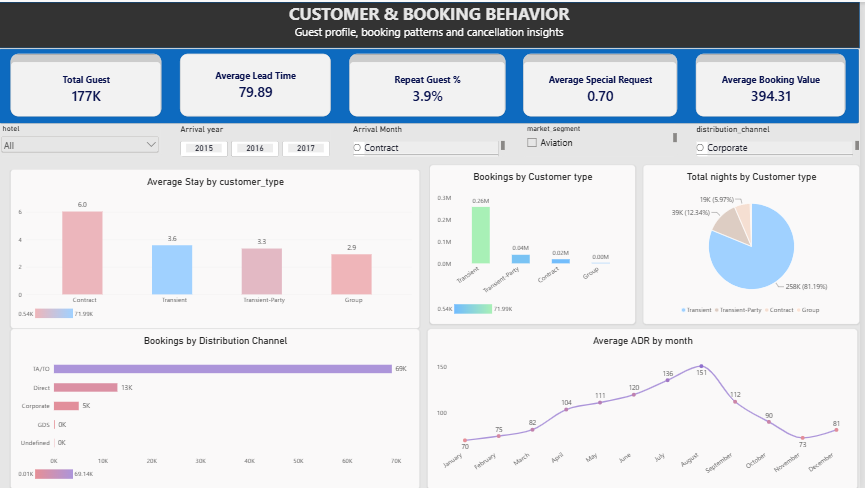

Layout of this report page (visuals, bound fields, positions):
{"tool":"powerbi","page":{"name":"Dashboard 2","canvas":[1920,1080],"ordinal":1},"visuals":[{"type":"shape","box":[9.8,0,1909.6,102.4],"z":0},{"type":"shape","box":[9.8,102.4,1909.6,168.3],"z":1000},{"type":"cardVisual","fields":{"Data":["Measure Table.Average Lead Time"]},"box":[411.5,114.6,334.1,139],"z":2000},{"type":"cardVisual","fields":{"Data":["Measure Table.Total Guest"]},"box":[36.6,114.6,334.1,139],"z":3000},{"type":"cardVisual","fields":{"Data":["Measure Table.Repeat Guest %"]},"box":[786.5,114.6,346.3,139],"z":4000},{"type":"cardVisual","fields":{"Data":["Measure Table.Average Special Request"]},"box":[1173.7,114.6,341.4,139],"z":5000},{"type":"cardVisual","fields":{"Data":["Measure Table.Average Booking Value"]},"box":[1555.9,114.6,331.7,139],"z":6000},{"type":"textbox","box":[9.8,0,1909.6,102.4],"z":7000},{"type":"slicer","title":"Hotel Type","fields":{"Values":["hotel_bookings.hotel"]},"box":[9.8,270.7,360.9,73.2],"z":8000},{"type":"advancedSlicerVisual","title":"Arrival year","fields":{"Values":["hotel_bookings.arrival_date_year"]},"box":[412.2,270.7,334.1,73.2],"z":9000},{"type":"listSlicer","title":"Arrival Month","fields":{"Values":["hotel_bookings.customer_type"]},"box":[795,270.7,339,73.2],"z":10000},{"type":"slicer","fields":{"Values":["hotel_bookings.market_segment"]},"box":[1173.1,270.7,341.4,73.2],"z":11000},{"type":"listSlicer","fields":{"Values":["hotel_bookings.distribution_channel"]},"box":[1555.9,270.7,363.4,73.2],"z":12000},{"type":"clusteredColumnChart","title":"Bookings by Customer type","fields":{"Category":["hotel_bookings.customer_type"],"Y":["Sum(hotel_bookings.Total Nights)"]},"box":[965.8,360.9,456.1,353.6],"z":13000},{"type":"clusteredColumnChart","fields":{"Category":["hotel_bookings.customer_type"],"Y":["Measure Table.Average Stay"]},"box":[36.6,370.7,907.2,353.6],"z":14000},{"type":"clusteredBarChart","title":"Bookings by Distribution Channel","fields":{"Category":["hotel_bookings.distribution_channel"],"Y":["Measure Table.Total Bookings"]},"box":[36.6,724.3,907.2,356.1],"z":15000},{"type":"pieChart","title":"Total nights by Customer type","fields":{"Category":["hotel_bookings.customer_type"],"Y":["Measure Table.Total nights"]},"box":[1438.9,360.9,480.4,353.6],"z":16000},{"type":"lineChart","title":"Average ADR by month","fields":{"Category":["hotel_bookings.Arrival Date.Variation.Date Hierarchy.Month"],"Y":["Measure Table.Average ADR"]},"box":[960.9,724.3,953.6,356.1],"z":17000}]}

Visuals, with their boxes in screenshot pixels (x1, y1, x2, y2), scaled from the page's 1920x1080 canvas onto the 865x488 screenshot:
shape: [left=4, top=0, right=864, bottom=46]
shape: [left=4, top=46, right=864, bottom=122]
cardVisual - Measure Table.Average Lead Time: [left=185, top=52, right=336, bottom=115]
cardVisual - Measure Table.Total Guest: [left=16, top=52, right=167, bottom=115]
cardVisual - Measure Table.Repeat Guest %: [left=354, top=52, right=510, bottom=115]
cardVisual - Measure Table.Average Special Request: [left=529, top=52, right=683, bottom=115]
cardVisual - Measure Table.Average Booking Value: [left=701, top=52, right=850, bottom=115]
textbox: [left=4, top=0, right=864, bottom=46]
"Hotel Type" slicer: [left=4, top=122, right=167, bottom=155]
"Arrival year" advancedSlicerVisual: [left=186, top=122, right=336, bottom=155]
"Arrival Month" listSlicer: [left=358, top=122, right=511, bottom=155]
slicer - hotel_bookings.market_segment: [left=529, top=122, right=682, bottom=155]
listSlicer - hotel_bookings.distribution_channel: [left=701, top=122, right=864, bottom=155]
"Bookings by Customer type" clusteredColumnChart: [left=435, top=163, right=641, bottom=323]
clusteredColumnChart - hotel_bookings.customer_type x Measure Table.Average Stay: [left=16, top=168, right=425, bottom=327]
"Bookings by Distribution Channel" clusteredBarChart: [left=16, top=327, right=425, bottom=487]
"Total nights by Customer type" pieChart: [left=648, top=163, right=864, bottom=323]
"Average ADR by month" lineChart: [left=433, top=327, right=863, bottom=487]
